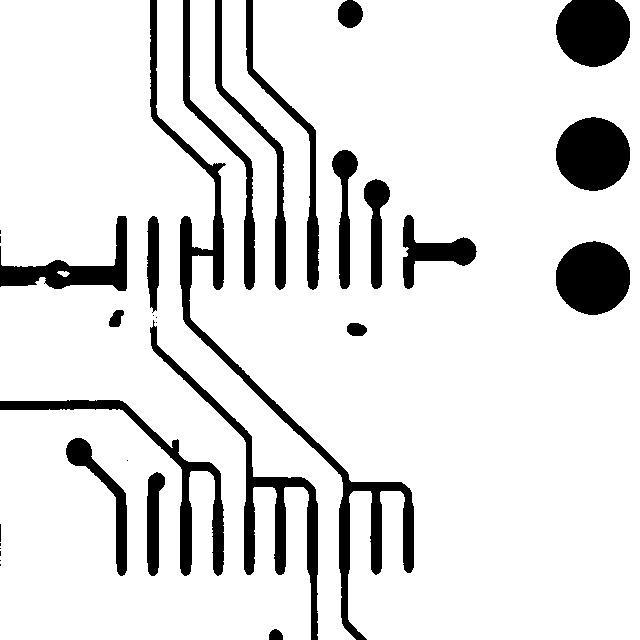copper: (337, 313, 376, 345), (99, 300, 133, 336)
mousebite: (25, 267, 57, 296), (390, 237, 418, 266)
open: (133, 297, 166, 337)
pin-hole: (47, 261, 79, 286)
short: (172, 237, 228, 265)
spur: (199, 153, 235, 183), (162, 429, 188, 469)
